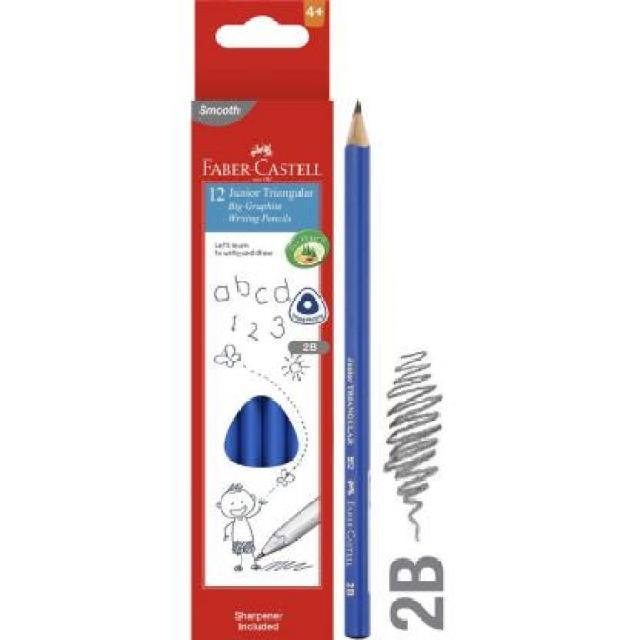pencil: (340, 91, 380, 167)
